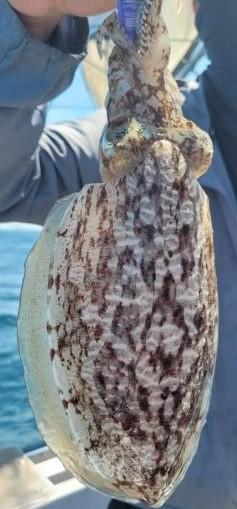Cephalopod: (16, 0, 220, 508)
